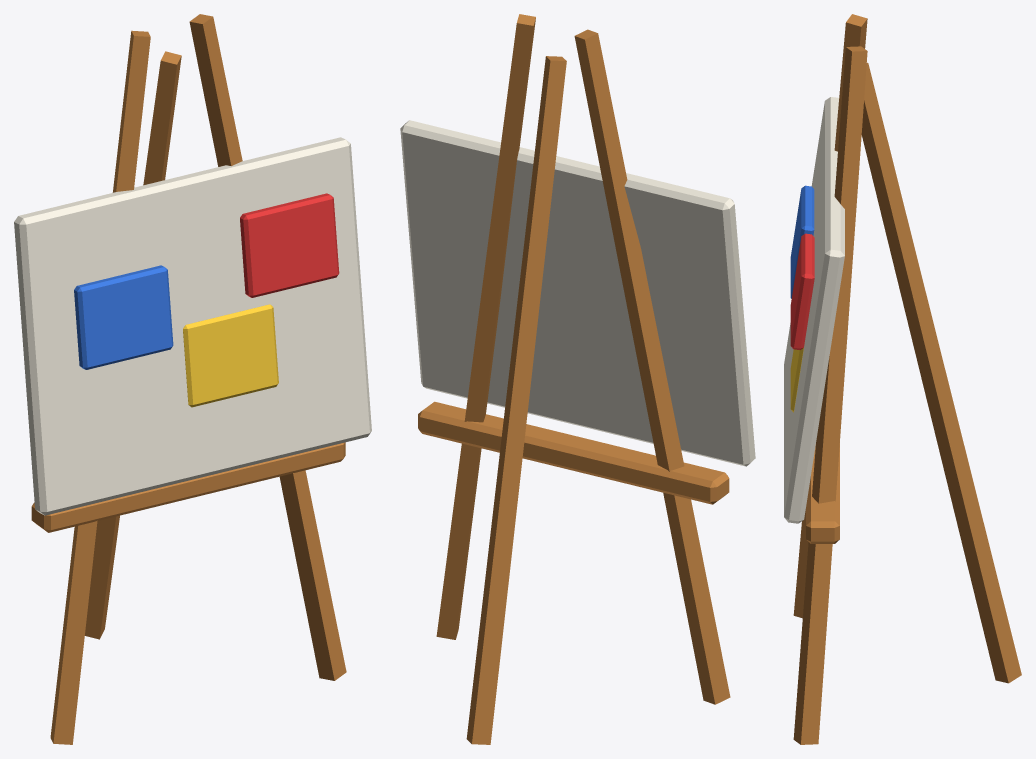
Rendered from Easel.fbx.
3 renders of one model, left to right at view 1: azimuth 30°, elevation 25°; view 2: azimuth 150°, elevation 25°; view 3: azimuth 270°, elevation 25°, orthographic. The views are drawn at different scales.
Visible parts, largest first — view 1: Easel; view 2: Easel; view 3: Easel.
Part boxes in pixels (bbox=[...]): Easel: bbox=[14, 14, 371, 744]; Easel: bbox=[400, 14, 755, 744]; Easel: bbox=[784, 14, 1021, 744].
Bounding box in the file's own units: 2.2 × 4.23 × 1.41.
Materials: 1 (1 with a texture image).
